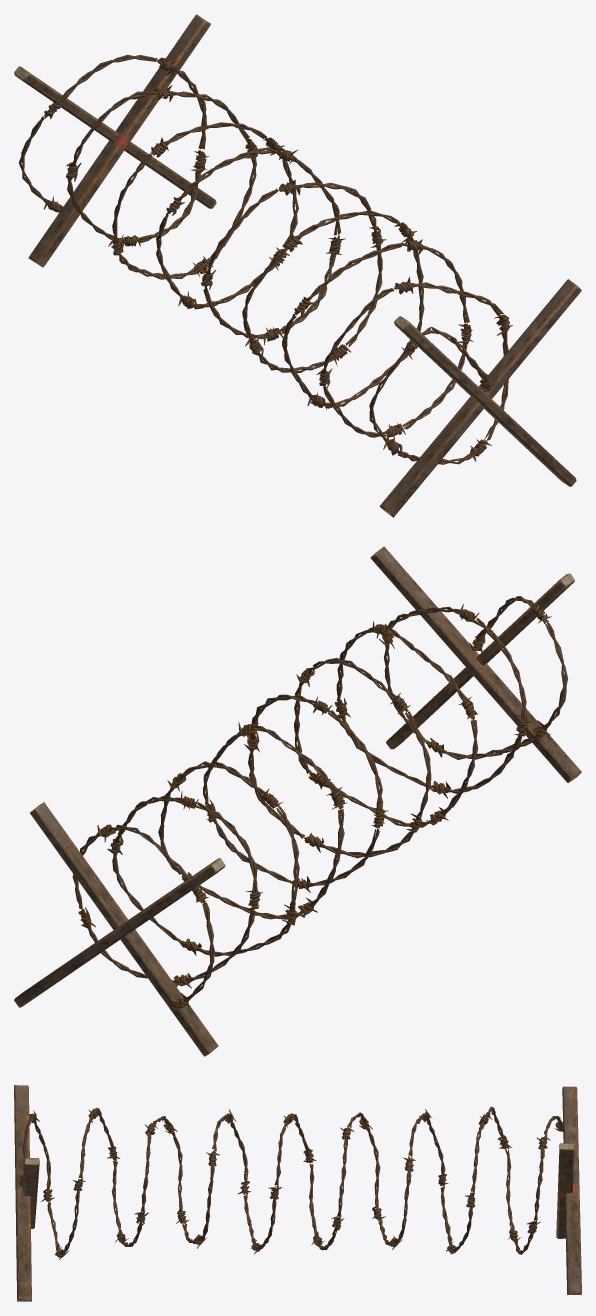
The model's file is SM_Spikes.fbx.
The picture shows the model from 3 angles, top to bottom: view 1: azimuth 30°, elevation 25°; view 2: azimuth 150°, elevation 25°; view 3: azimuth 270°, elevation 25°; orthographic projection. The views are drawn at different scales.
Parts seen in each view (by area): view 1: SM_Spikes_LOD0; view 2: SM_Spikes_LOD0; view 3: SM_Spikes_LOD0.
Boxes of the visible parts, bbox=[...] form: SM_Spikes_LOD0: bbox=[14, 14, 581, 517]; SM_Spikes_LOD0: bbox=[14, 546, 581, 1056]; SM_Spikes_LOD0: bbox=[14, 1085, 581, 1301].
Size of the model in its own units: 89.12 by 278 by 84.11.
1 material, 1 textured.
